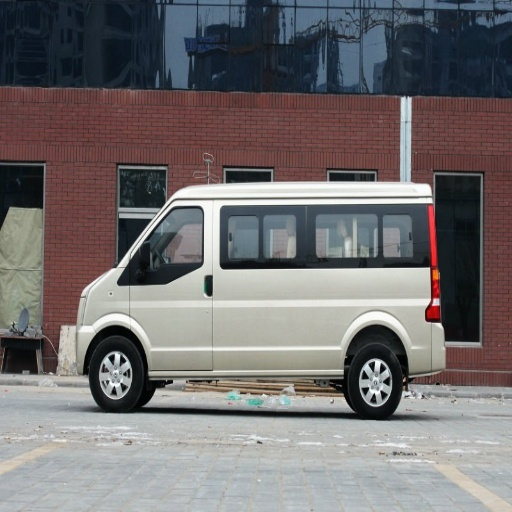back_left_door: (274, 314, 317, 367), (262, 209, 299, 254)
trunk: (300, 271, 440, 372)
